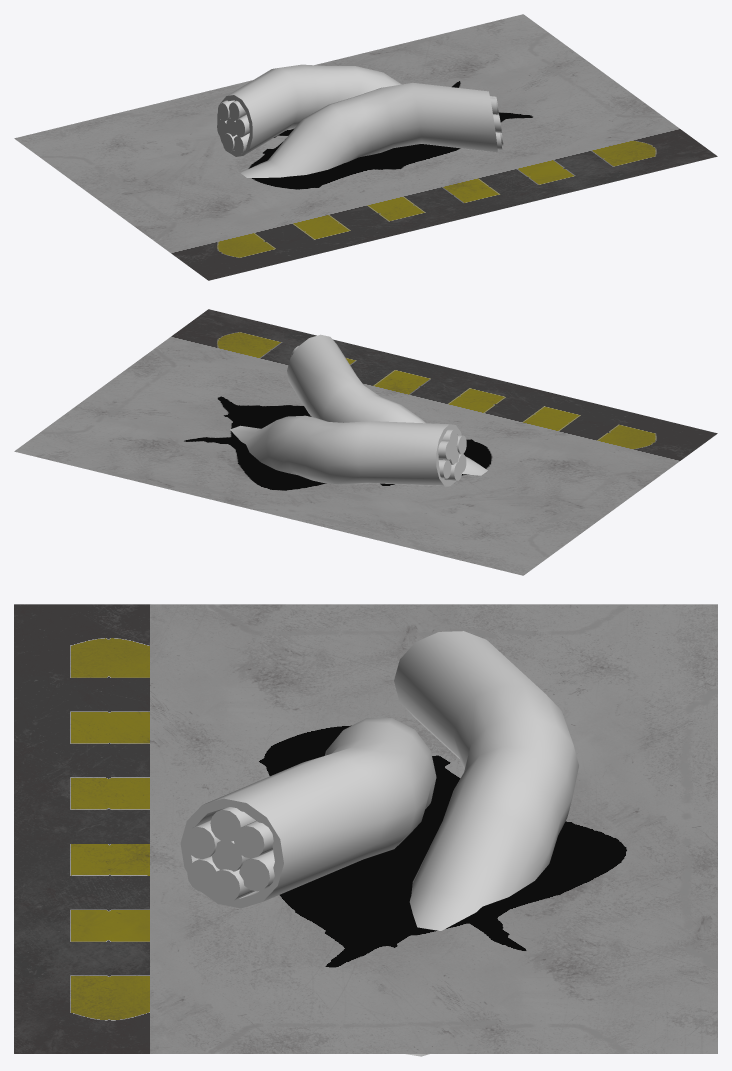
The model's file is Floor_and_tubes.fbx.
The picture shows the model from 3 angles, top to bottom: view 1: azimuth 30°, elevation 25°; view 2: azimuth 150°, elevation 25°; view 3: azimuth 270°, elevation 25°; orthographic projection. The views are drawn at different scales.
Parts seen in each view (by area): view 1: Floor2_low, Tube; view 2: Floor2_low, Tube; view 3: Floor2_low, Tube.
Part boxes in pixels (x1=…): Floor2_low: x1=14, y1=14, x2=717, y2=280; Tube: x1=217, y1=64, x2=503, y2=177; Floor2_low: x1=14, y1=309, x2=717, y2=575; Tube: x1=230, y1=334, x2=487, y2=486; Floor2_low: x1=14, y1=604, x2=717, y2=1053; Tube: x1=180, y1=631, x2=578, y2=1056.
Bounding box in the file's own units: 341 × 73.31 × 225.
